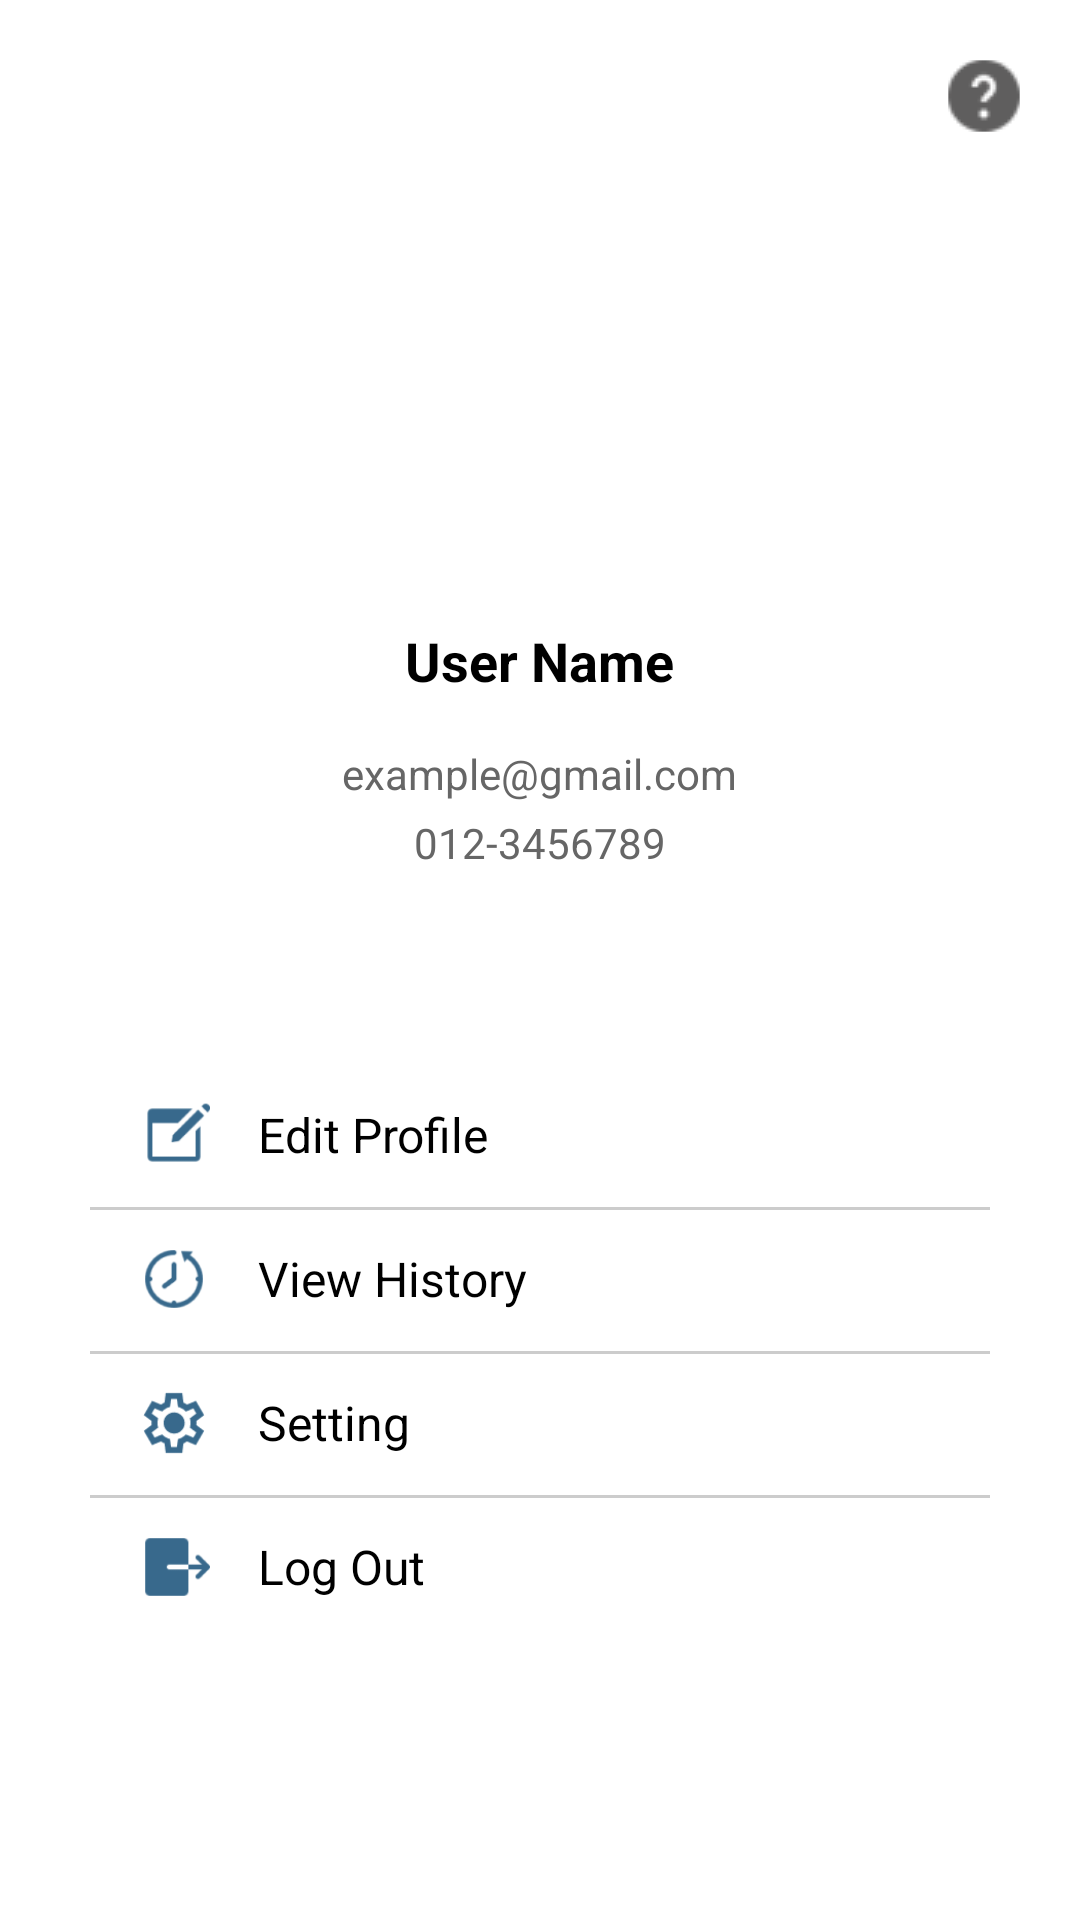

Named icons in this screenshot (1080×1920) and their bounding boxes, [left=x1, top=y1, right=x2, bottom=y2]:
Help: [left=948, top=60, right=1020, bottom=132]
